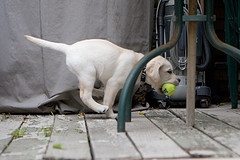tennis ball: (161, 83, 177, 97)
